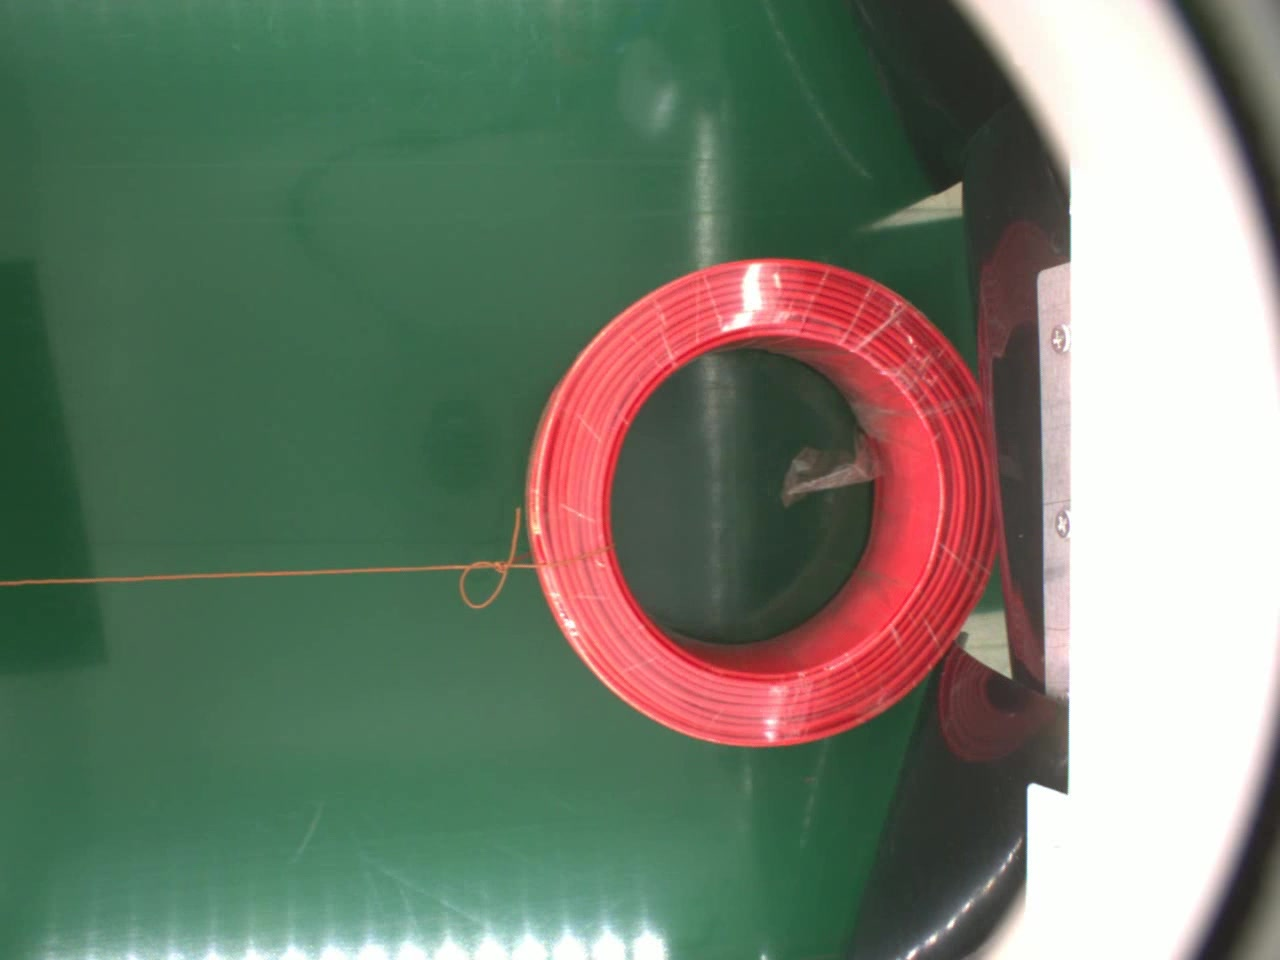red: (521, 257, 998, 749)
